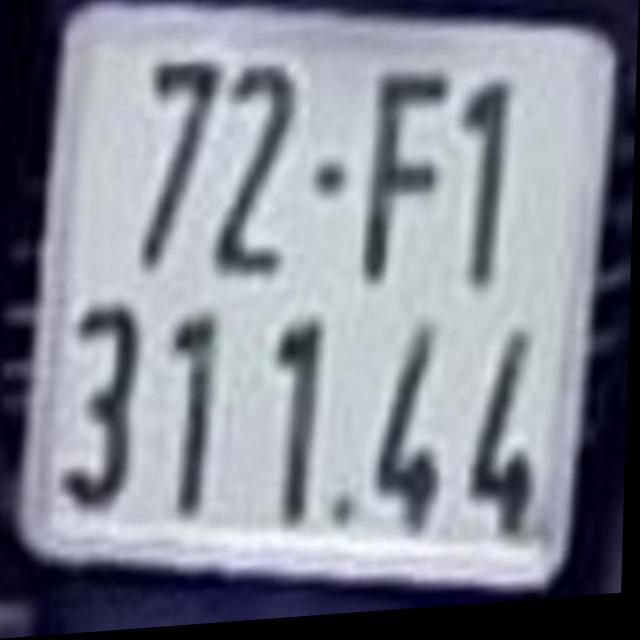1: (266, 316, 333, 538), (455, 77, 518, 300), (166, 308, 224, 526)
2: (222, 67, 297, 283)
3: (62, 300, 150, 516)
4: (467, 330, 548, 555), (374, 320, 447, 537)
7: (135, 60, 219, 279)
F: (363, 72, 451, 294)
